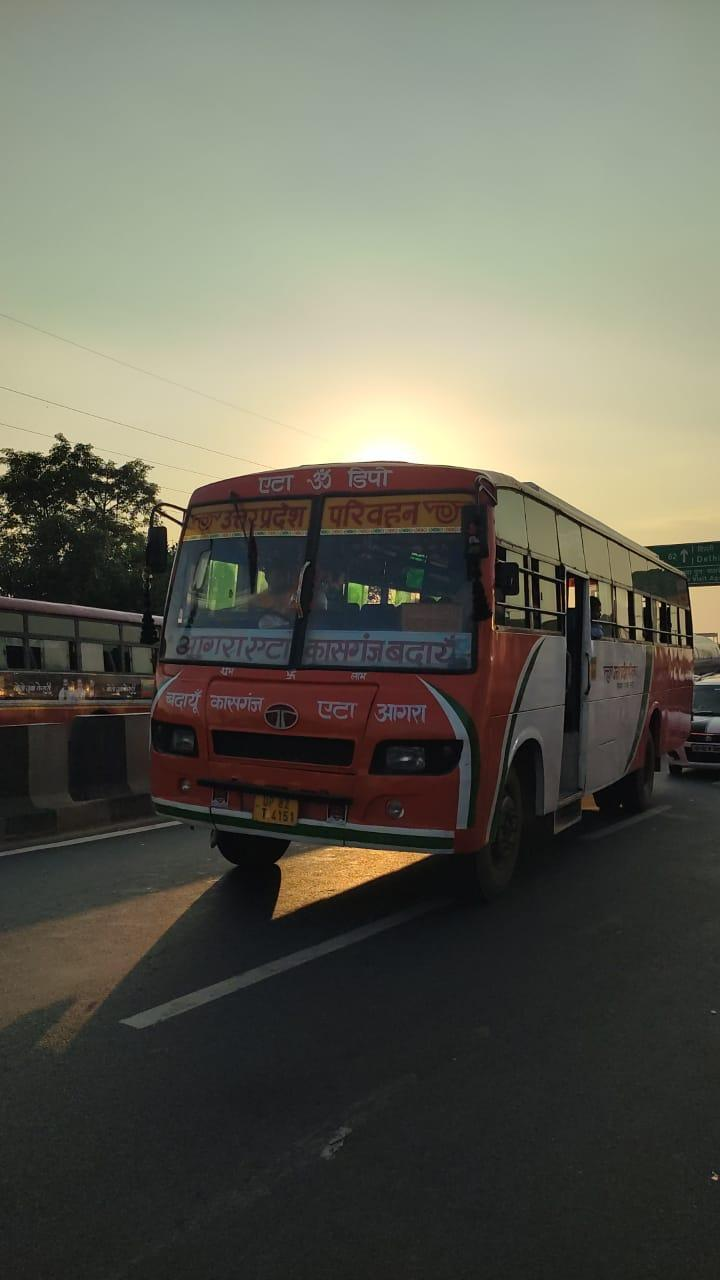Bus: (149, 462, 696, 902)
